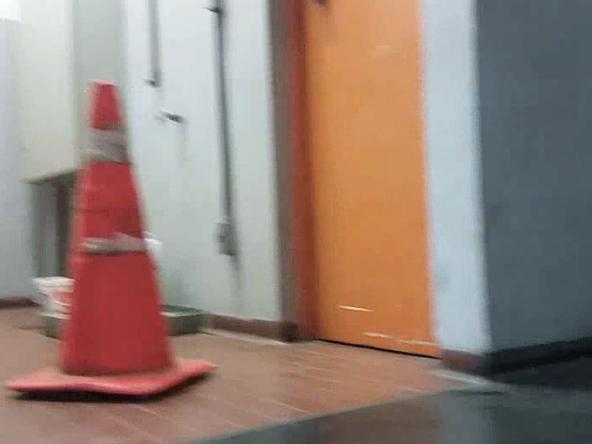0 cone: (3, 81, 209, 396)
